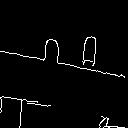cube: (78, 31, 103, 69)
